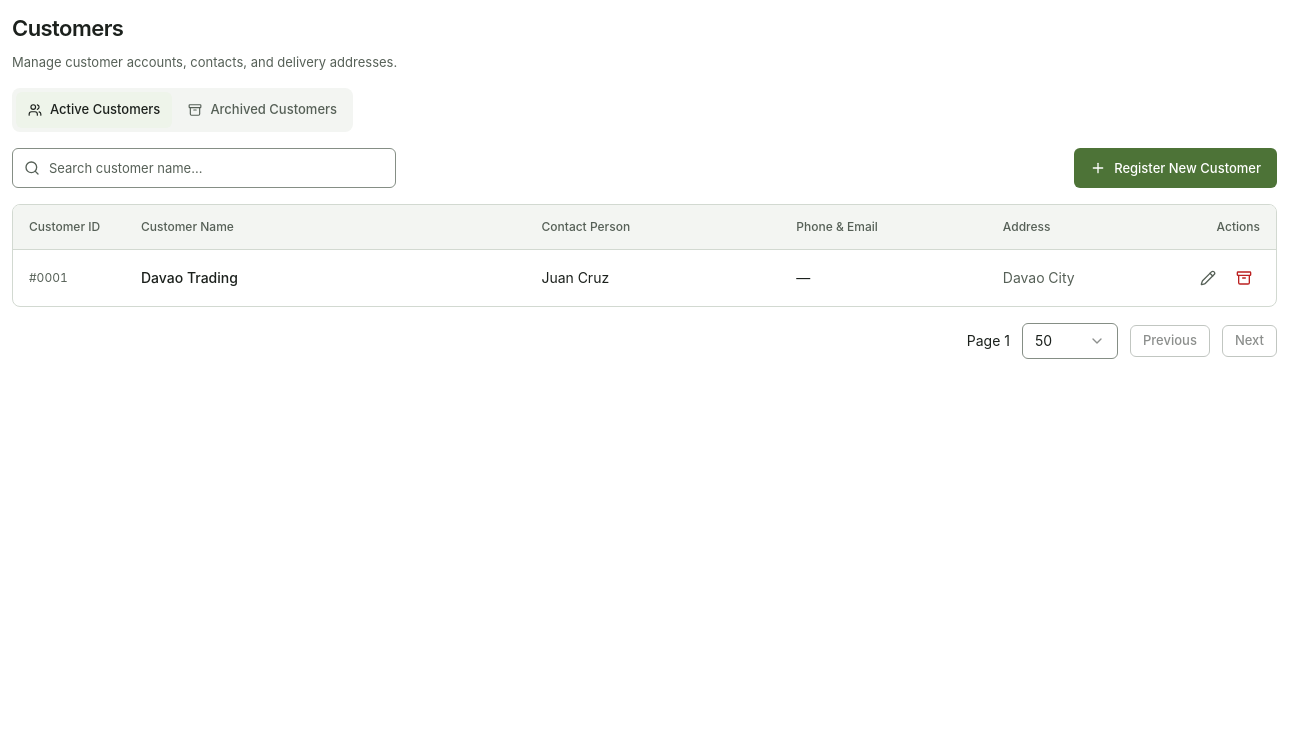
Test: clears a search from the no-results state without changing the selected archive filter
Expected: the text "Davao Trading" is shown, [141,269,238,286]
Type "missing" into the field named "Search customers" at (204,168), box [12,148,396,188]
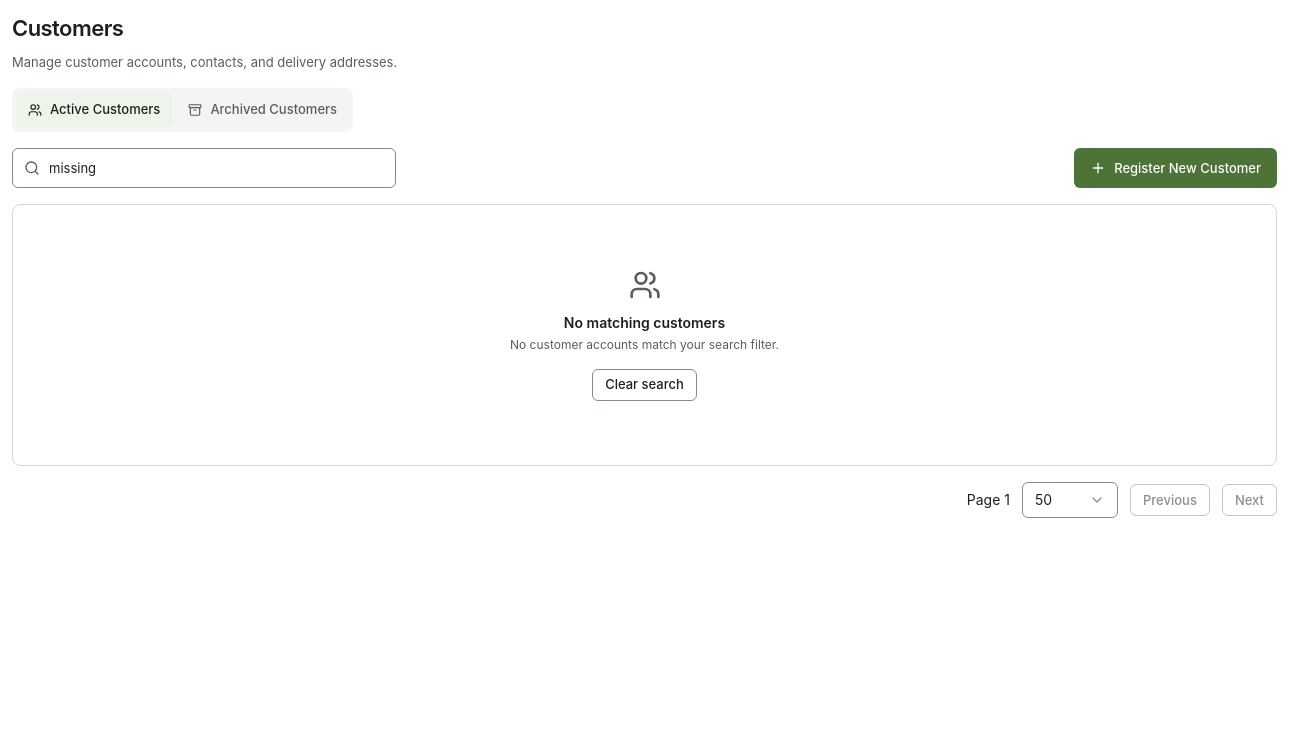
Click the button "Clear search" at (644,385), box [592,369,697,401]
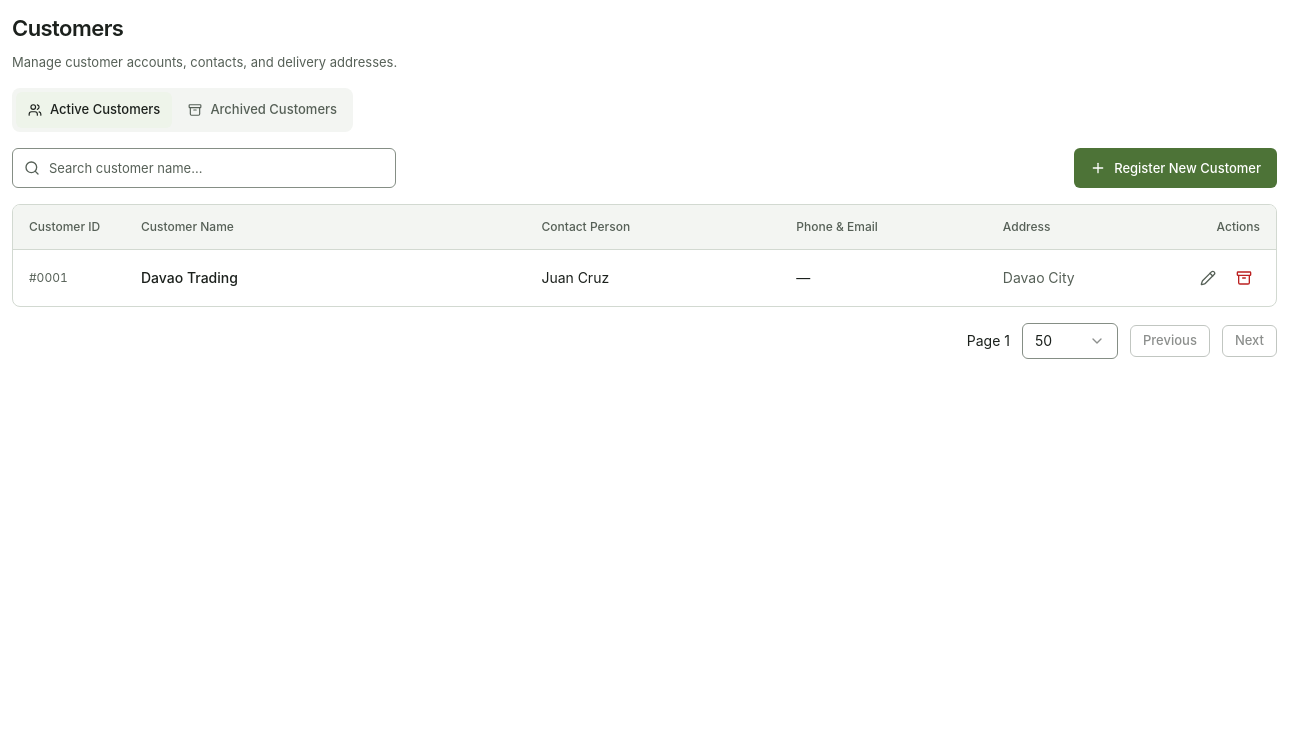
Expected: the text "Davao Trading" is shown, [141,269,238,286]
Expected: the field named "Search customers" is empty, [12,148,396,188]
